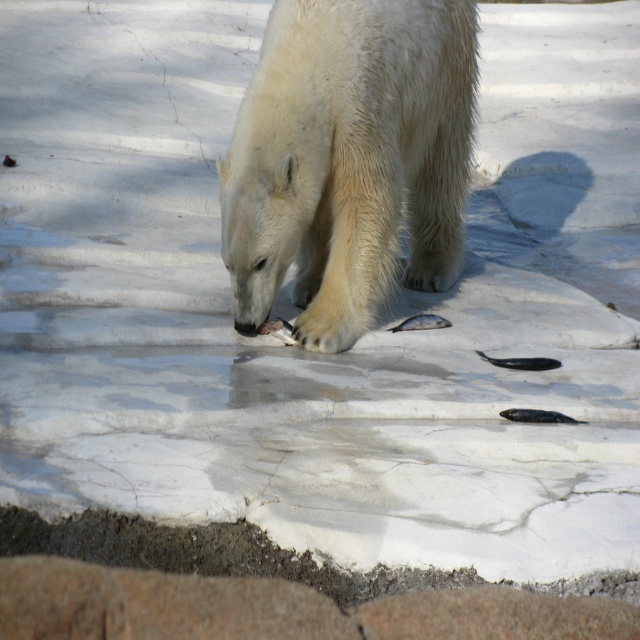Polar bear: (221, 0, 484, 354)
